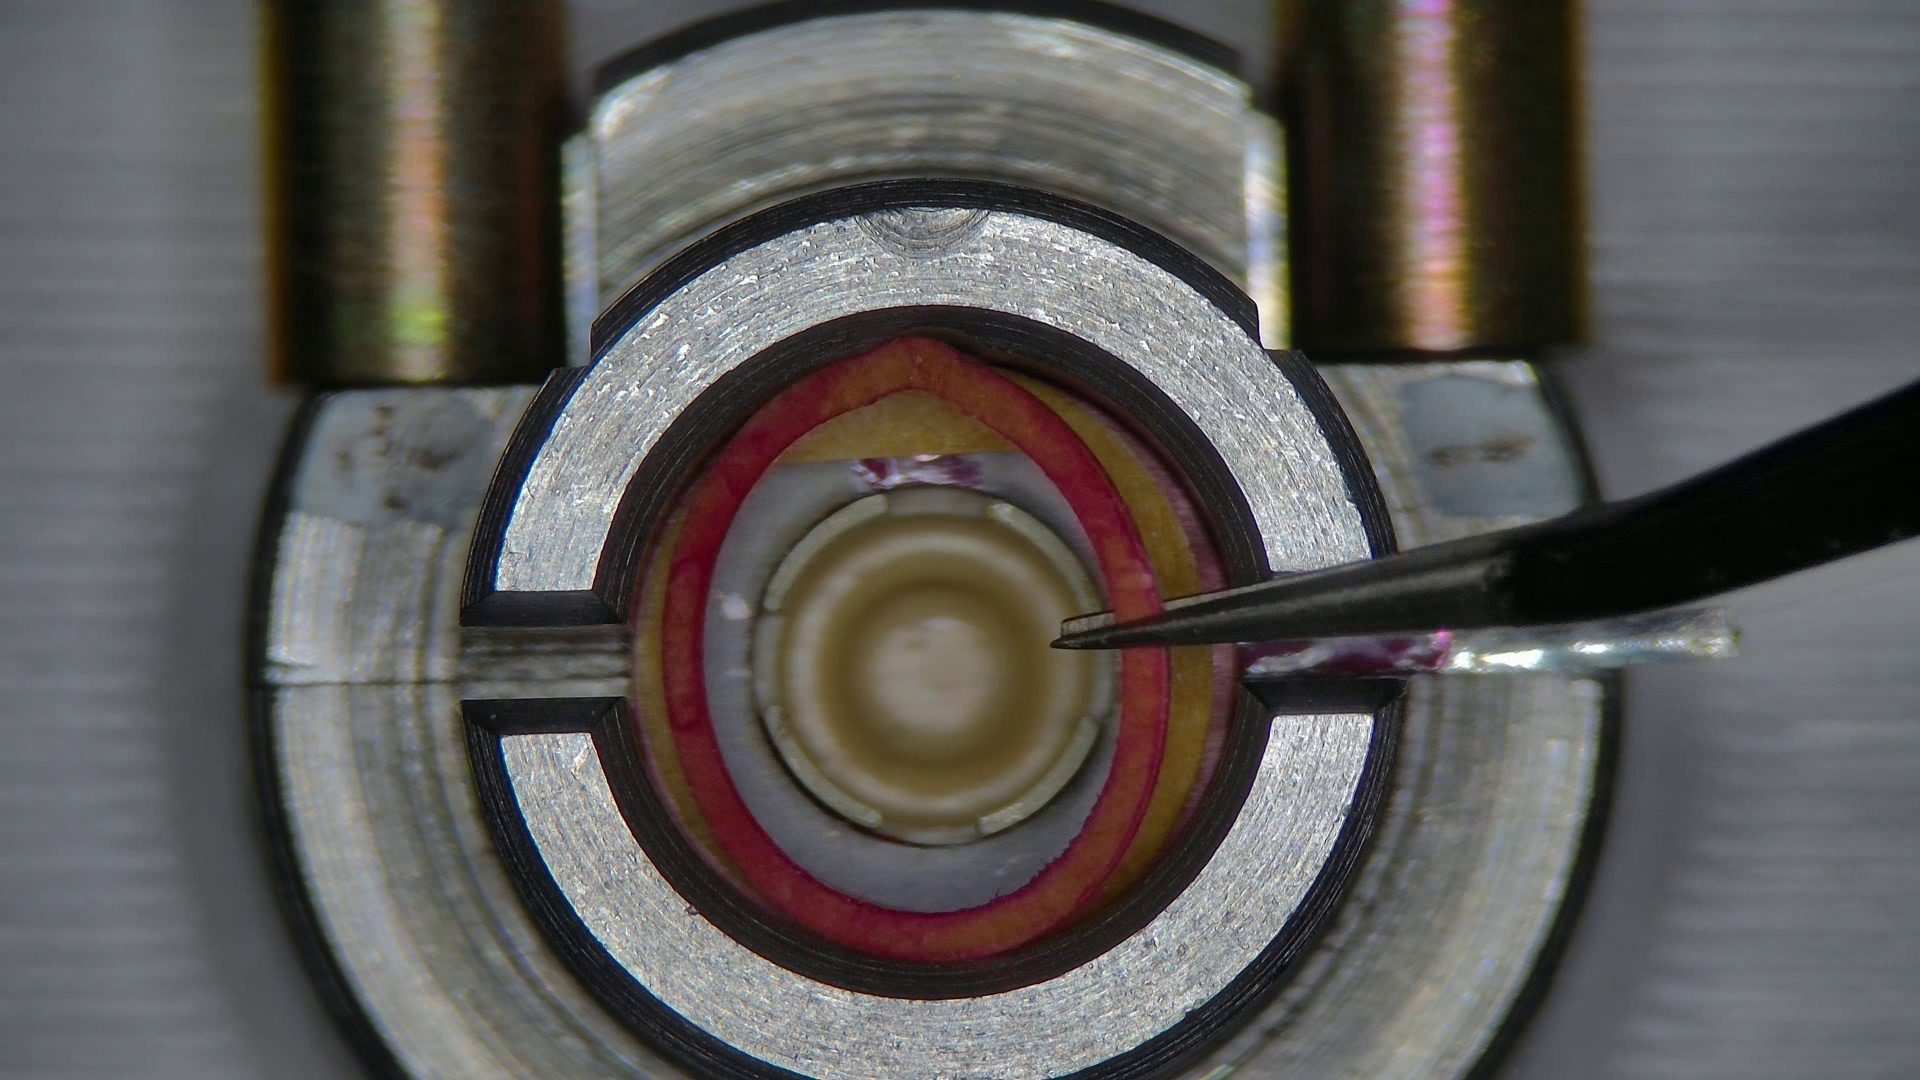GreyOring: (658, 344, 1167, 963)
YellowOring: (703, 455, 1113, 910)
redOring: (1040, 392, 1196, 593), (640, 560, 708, 835), (779, 392, 1017, 464), (1143, 647, 1211, 831)
